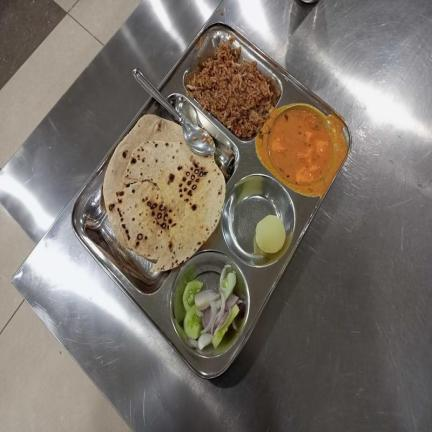Chhaina: (255, 213, 287, 252)
Fried Rice: (185, 34, 273, 138)
Paneer: (268, 103, 333, 186)
Plate: (71, 19, 352, 378)
Roti: (104, 114, 225, 273)
Salad: (182, 261, 243, 350)
